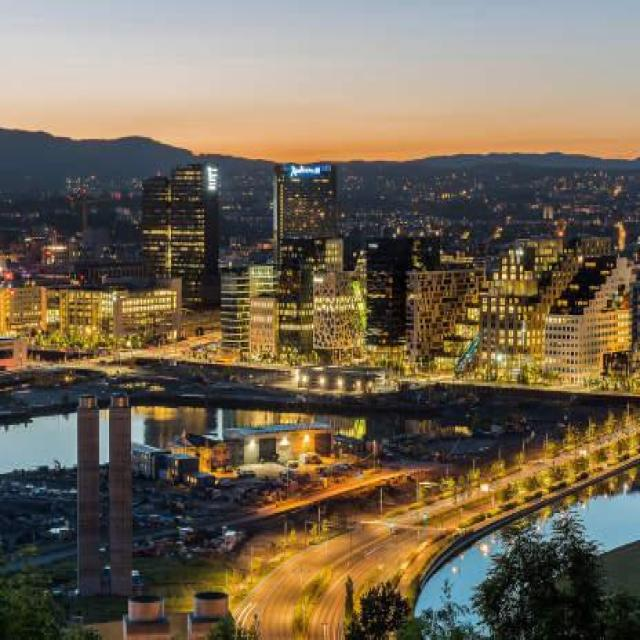other: (438, 254, 620, 388), (243, 423, 431, 517), (43, 272, 174, 350)
